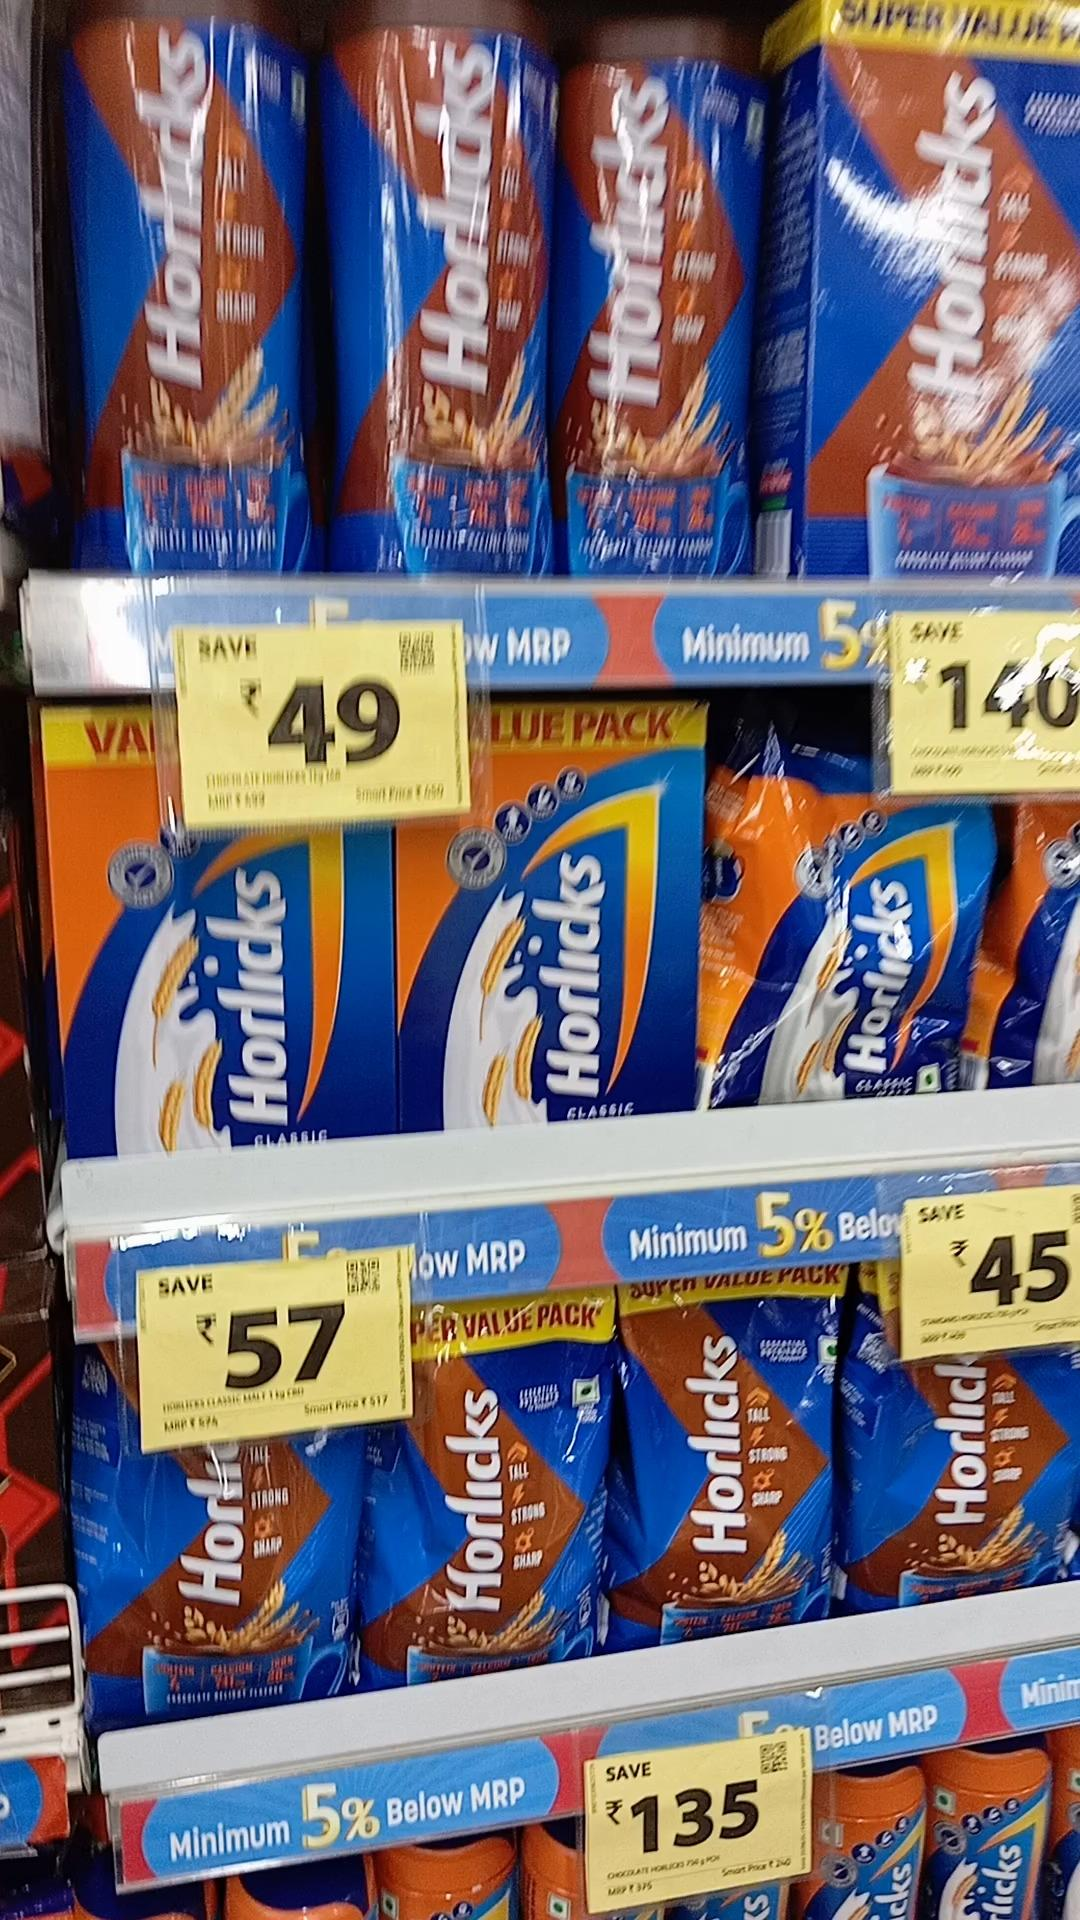HORLICK_CHOCOLATE_1_KG_JAR: (53, 0, 322, 568), (343, 3, 556, 582), (575, 4, 740, 578)
HORLICK_CHOCOLATE_1_KG_PACK: (798, 0, 1080, 572)
HORLICK_CHOCOLATE_750_G_POUCH: (406, 1308, 613, 1675), (622, 1280, 832, 1623)
HORLICK_CLASSIC_MALT_750_G_POUCH: (725, 796, 1000, 1105)
